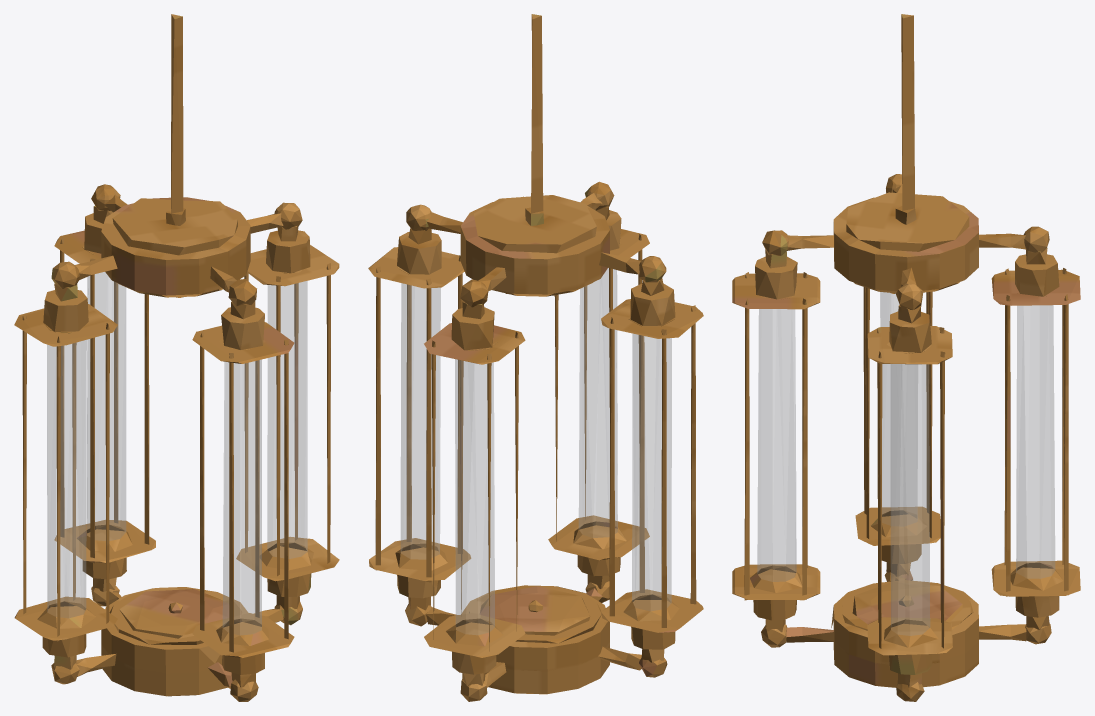
File: Steampunk-chandelier-colored.glb
3 views of the same model, side by side, from view 1: azimuth 30°, elevation 25°; view 2: azimuth 150°, elevation 25°; view 3: azimuth 270°, elevation 25° (orthographic).
Visible parts, largest first — view 1: shaft.low001; view 2: shaft.low001; view 3: shaft.low001.
Part boxes in pixels (box(x1,y1,x2,y2)): shaft.low001: box(14, 14, 339, 701); shaft.low001: box(368, 14, 703, 701); shaft.low001: box(732, 14, 1080, 701).
Bounding box in the file's own units: 2.46 × 5.12 × 2.46.
Materials: 2 (1 with a texture image).
